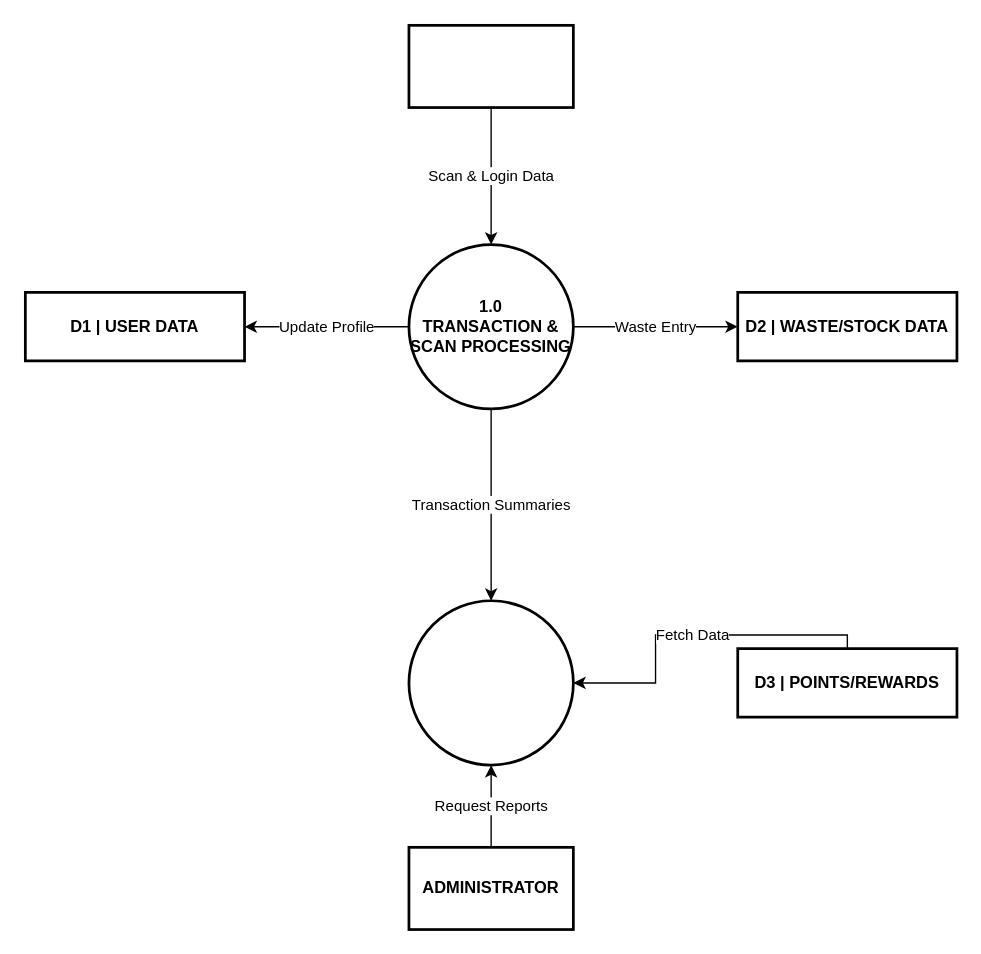
Some shapes in this 981 by 954 pixel diagram are drawn without their labels. The shapes that lost their labels are listed below. From the top down, each one's centre as x and y in pixels, then its label:
At (x=490, y=65): "USER / CUSTOMER".
At (x=490, y=682): "2.0 REPORTING SYSTEM".
